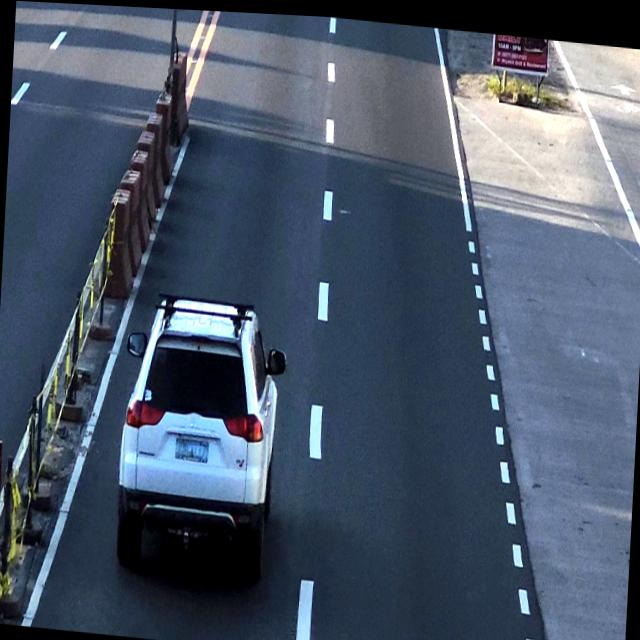Car: (117, 285, 283, 566)
License-Plate: (171, 434, 211, 468)
